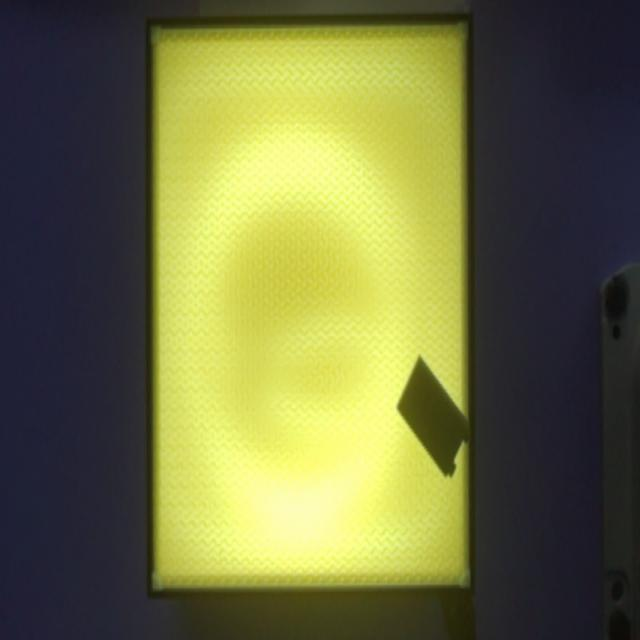bateria: (396, 355, 470, 478)
mesa: (146, 13, 474, 600)
